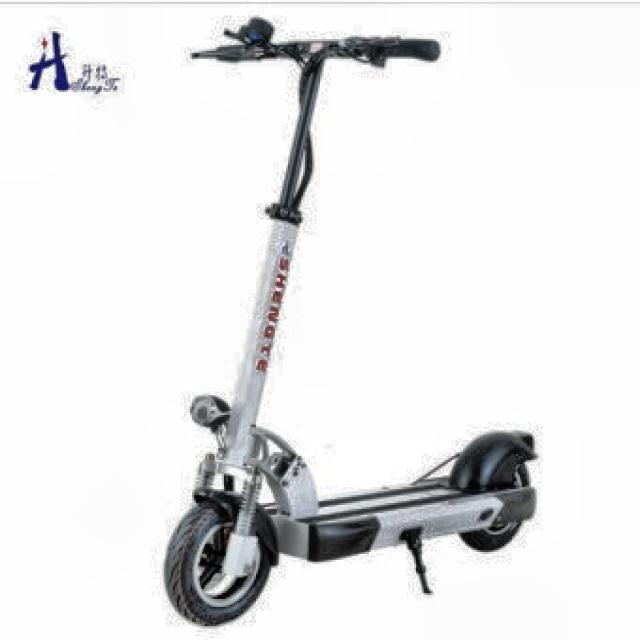bike: (162, 15, 543, 629), (162, 293, 540, 628), (162, 405, 539, 628)
